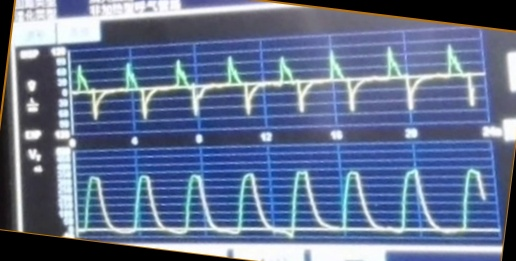Accumulation Flow: (73, 44, 478, 122)
Volume: (80, 164, 492, 242)
